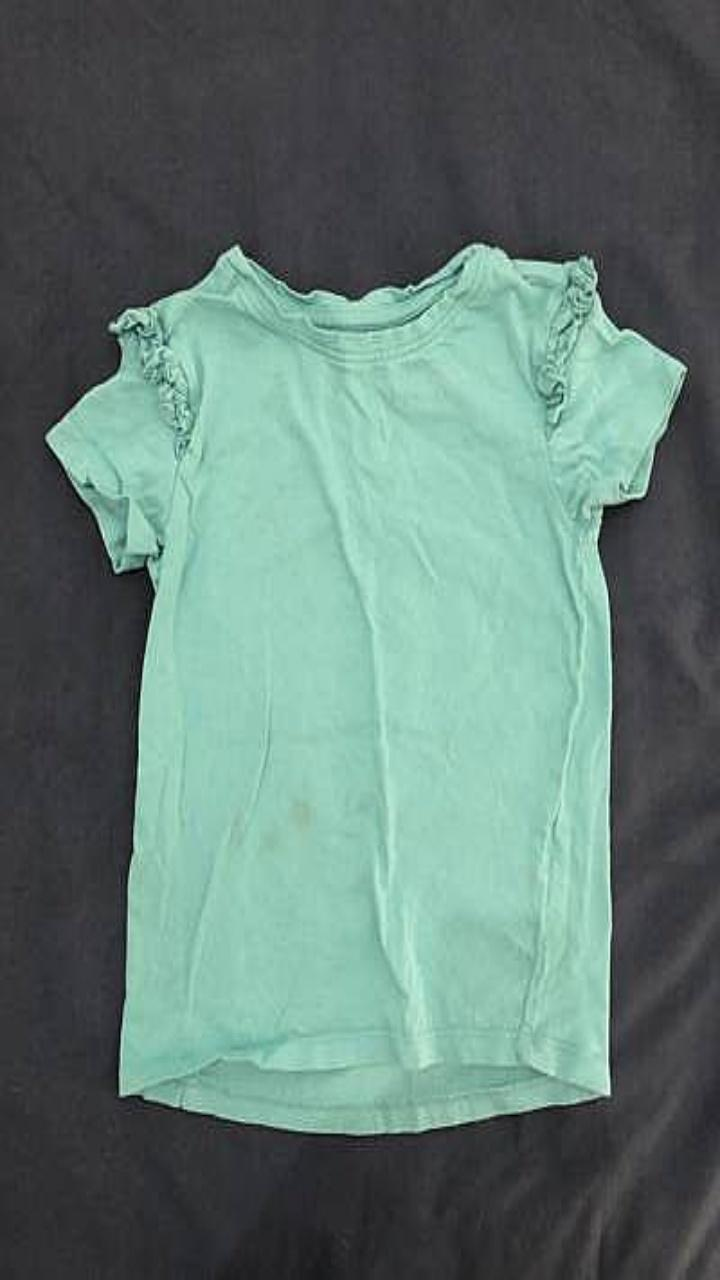T-Shirt: (45, 242, 686, 1133)
